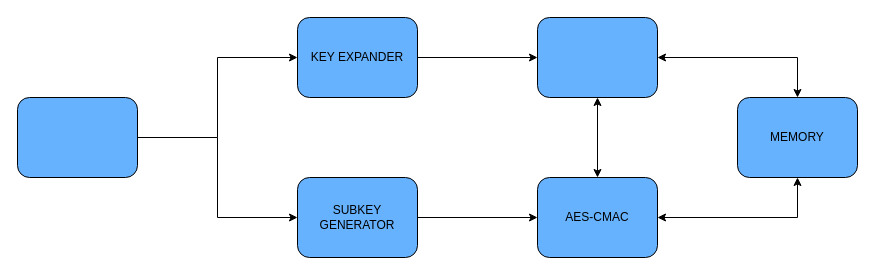
Image size: 875x275. Some labels were removed from this diagram. The shapes that lost their labels are listed below. From the top down, each one's centre as x and y in pixels, then its label:
At point (597, 57): "AES-128".
At point (77, 137): "KEY".
